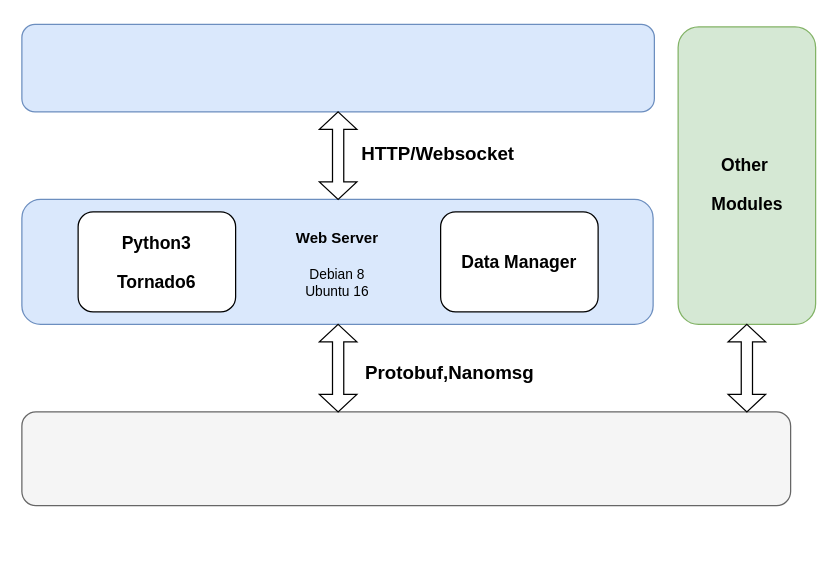
This 838x569 diagram has some shape labels left out. Here are the shapes that lost their labels. From the top down, the box of each, then its label:
(21, 23, 654, 112): Web Client (Chrome) HTML5、CSS3、JavaScript、Code Mirror、Vue、Element UI、Webpack、..
(21, 411, 791, 506): Message hub MQTT(broker)
